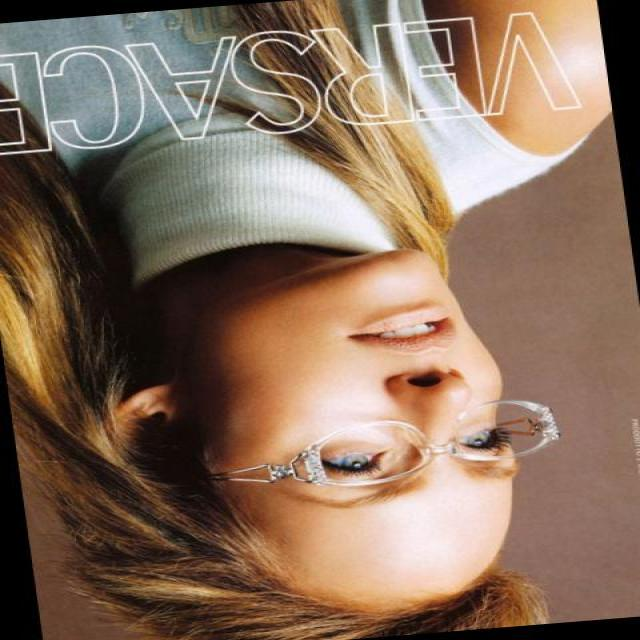glasses: (206, 392, 566, 499)
